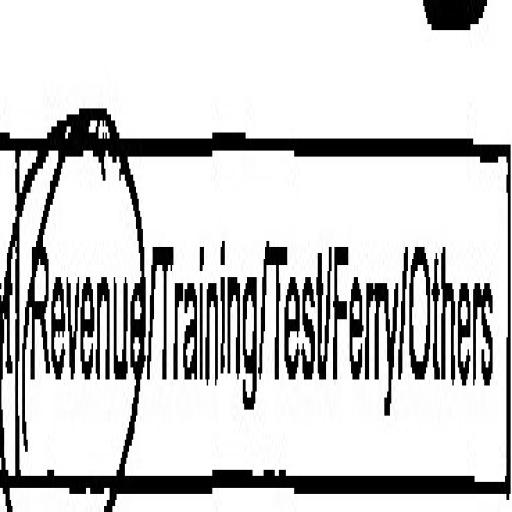check: (0, 0, 150, 512)
